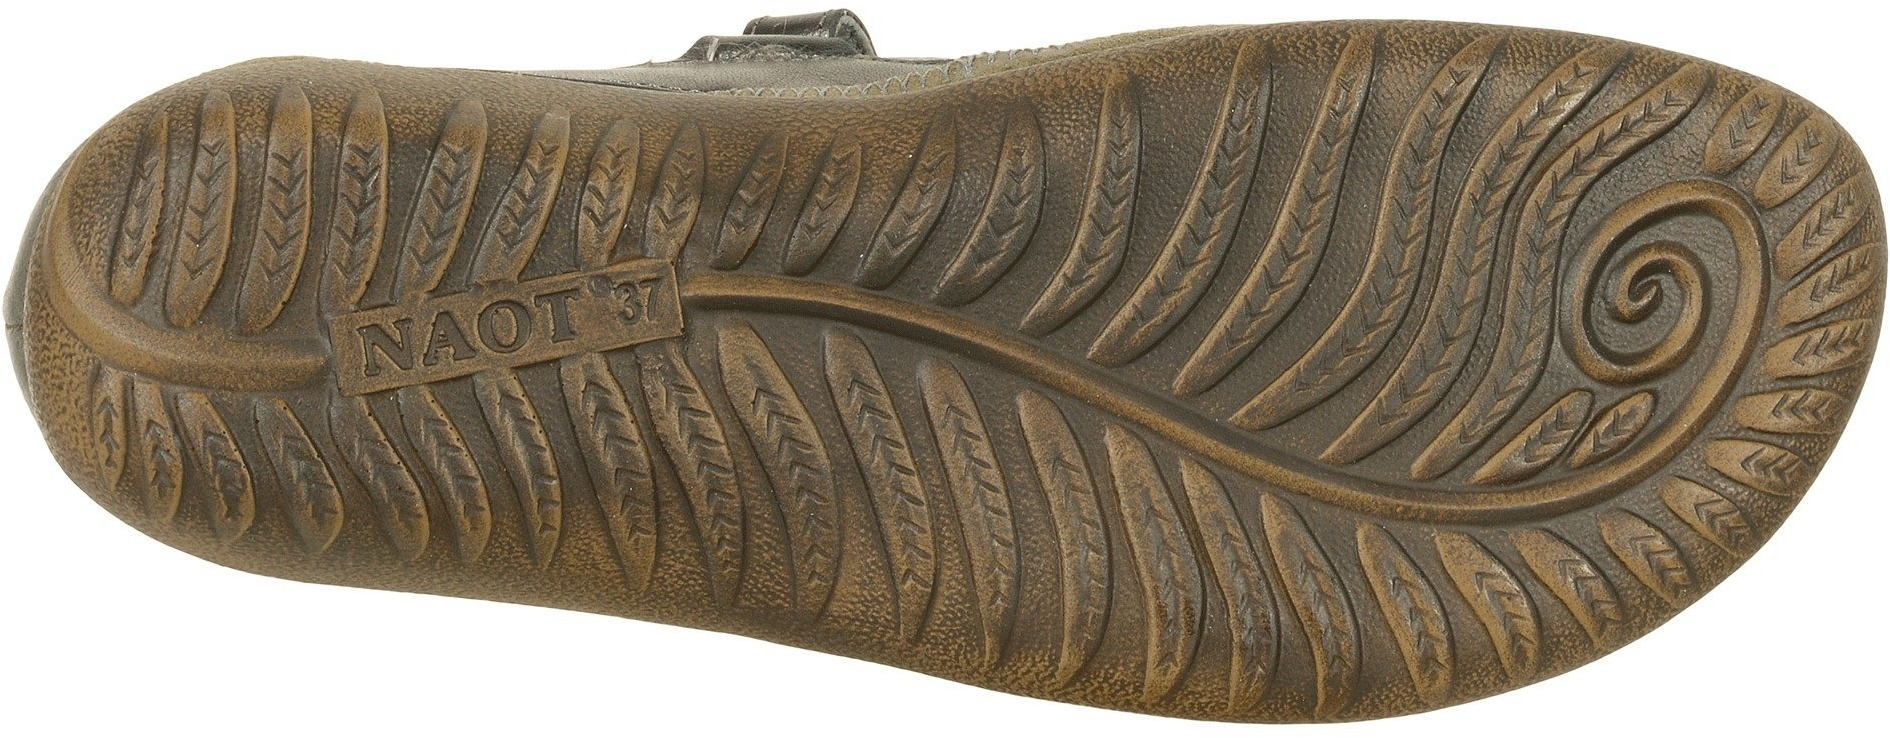circle: (1589, 186, 1745, 374), (460, 283, 542, 379)
text: (547, 270, 658, 346), (460, 283, 542, 379), (362, 314, 433, 381)
